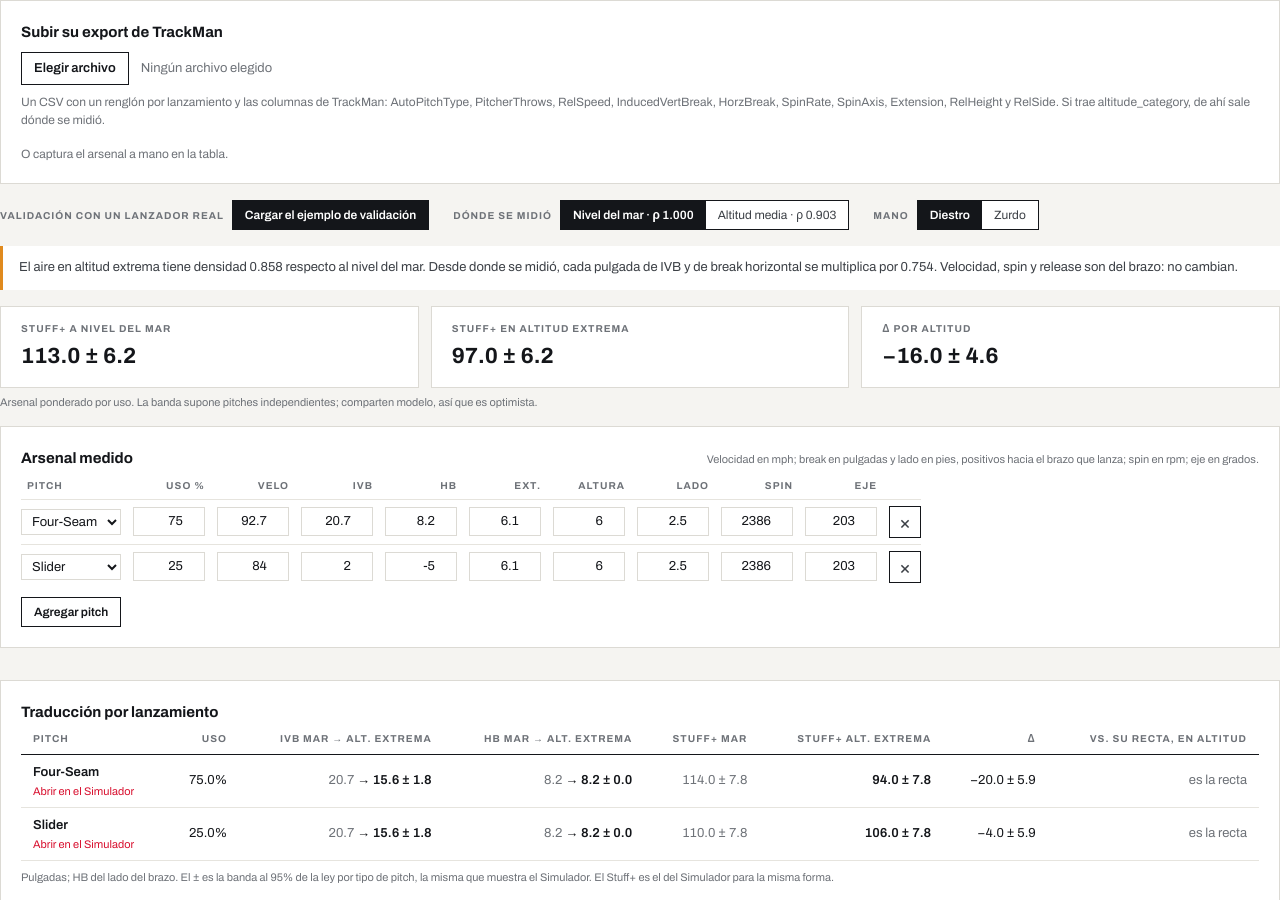
Test case: el Traductor › tras un error no deja respuestas viejas bajo un pitch que ya cambio
This screenshot has width=1280, height=900.
expect the text "97.0 ± 6.2" is shown: met, box [452,344,554,368]
Select "Curveball" in the dropdown named "Pitch 2" at (71, 566), box [21,554,121,580]
Wait 400 ms
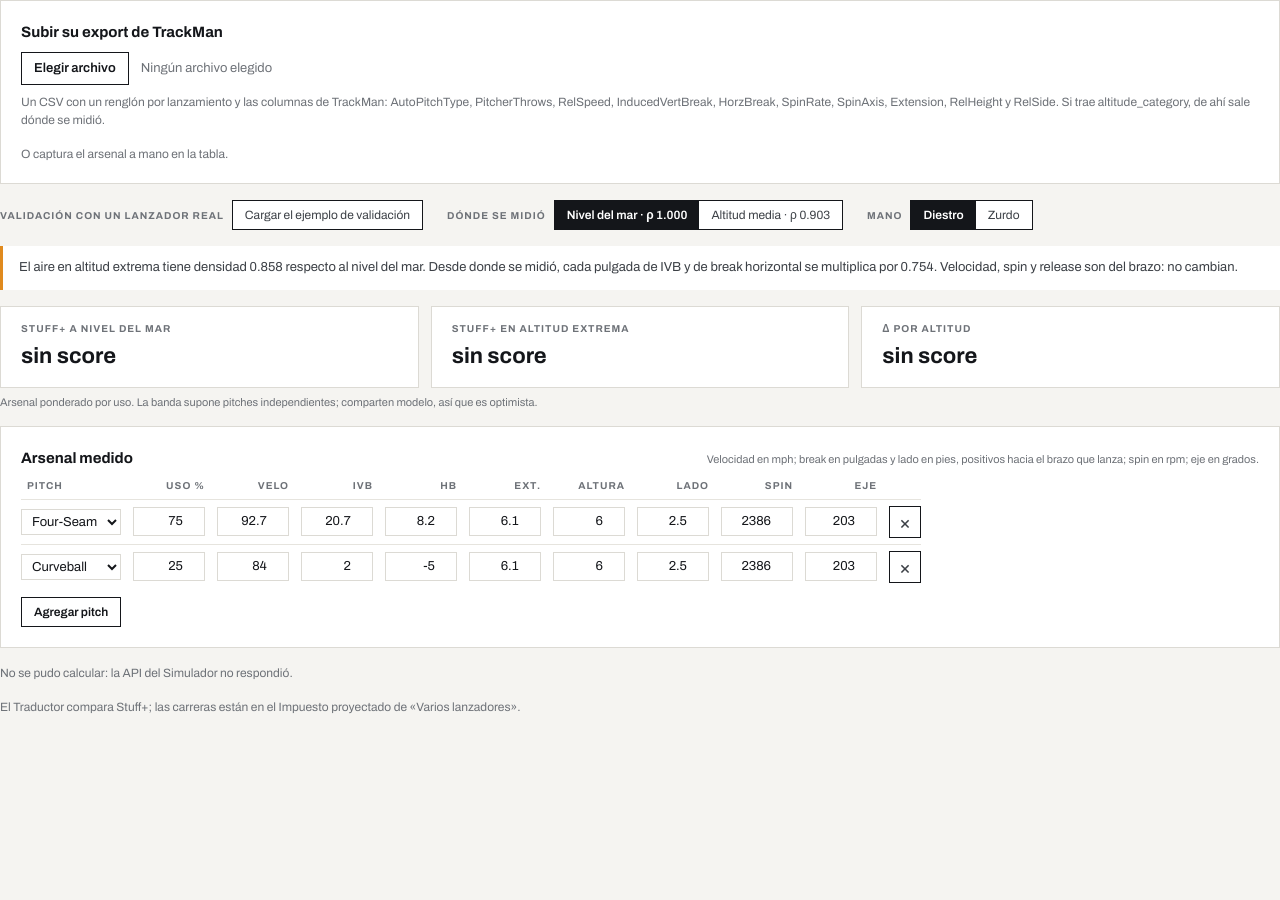
expect the text "No se pudo calcular: la API del Simulador no respondió." is shown: met, box [0,666,293,680]
expect the text "97.0 ± 6.2" is gone: met
